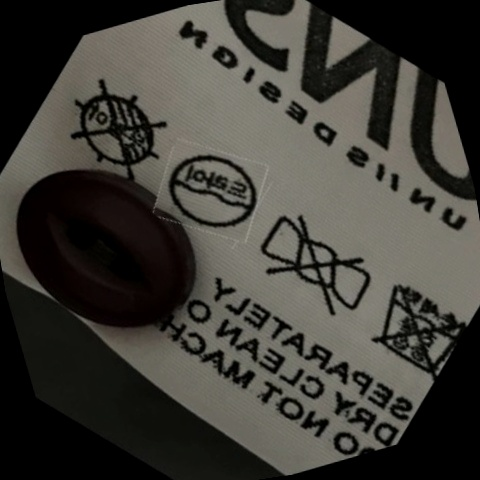DN_dry: (60, 71, 177, 189)
DN_wring: (250, 202, 382, 333)
dry_clean: (159, 138, 264, 246)
hand_wash: (358, 265, 470, 385)
